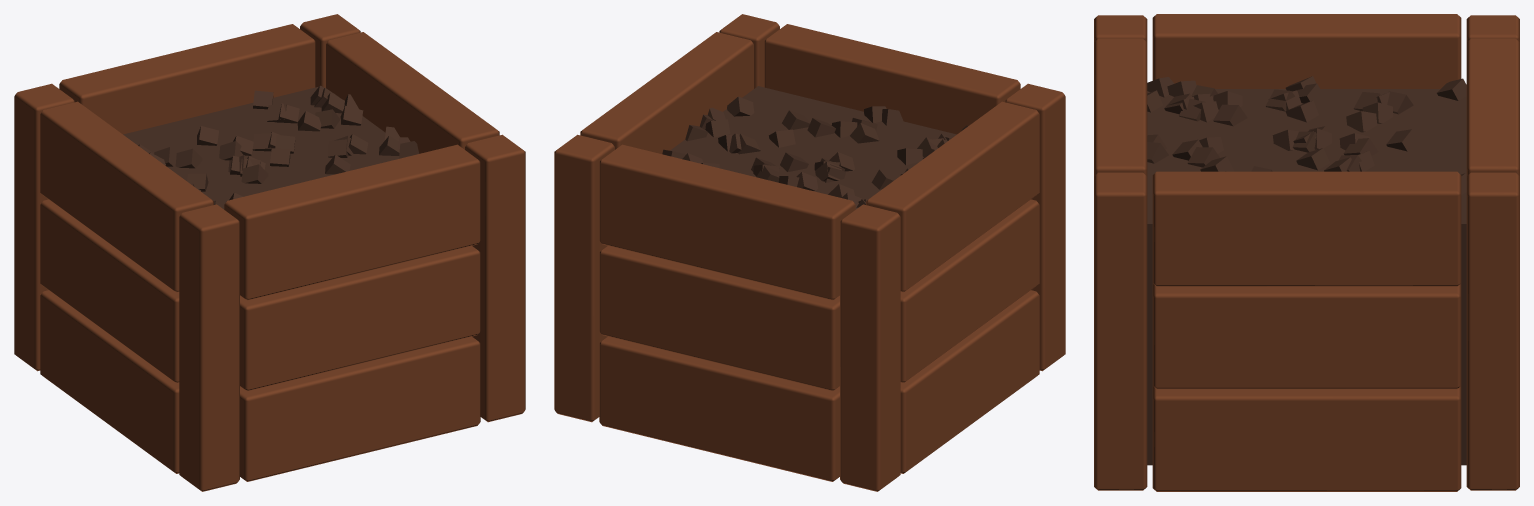
File: Composter.glb
3 views of the same model, side by side, from view 1: azimuth 30°, elevation 25°; view 2: azimuth 150°, elevation 25°; view 3: azimuth 270°, elevation 25° (orthographic). The views are drawn at different scales.
Parts seen in each view (by area): view 1: Composter; view 2: Composter; view 3: Composter.
Part boxes in pixels (bbox=[...]): Composter: bbox=[14, 14, 525, 491]; Composter: bbox=[554, 14, 1065, 491]; Composter: bbox=[1094, 14, 1519, 491].
Size of the model in its own units: 0.8 by 0.625 by 0.8.
